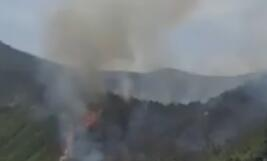yanwu: (31, 0, 267, 155)
